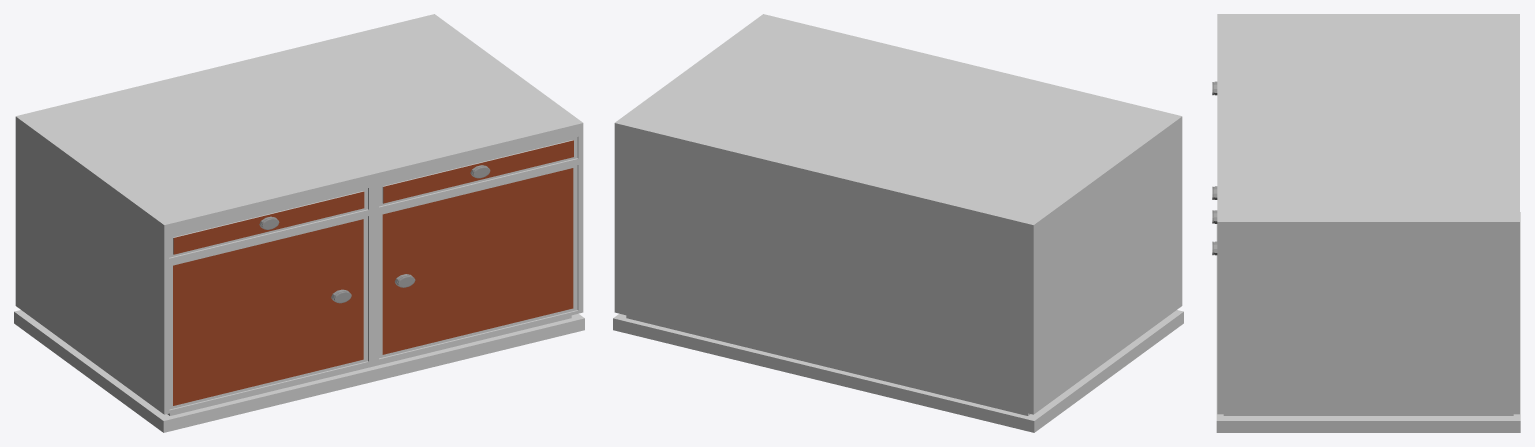
File: Lower_Cabinet.fbx
3 renders of one model, left to right at view 1: azimuth 30°, elevation 25°; view 2: azimuth 150°, elevation 25°; view 3: azimuth 270°, elevation 25°, orthographic.
Visible parts, largest first — view 1: Lower_Cabinet; view 2: Lower_Cabinet; view 3: Lower_Cabinet.
Boxes of the visible parts, bbox=[...] form: Lower_Cabinet: bbox=[14, 14, 584, 432]; Lower_Cabinet: bbox=[613, 14, 1183, 432]; Lower_Cabinet: bbox=[1212, 14, 1520, 432].
Size of the model in its own units: 92.27 by 43.37 by 57.57.
